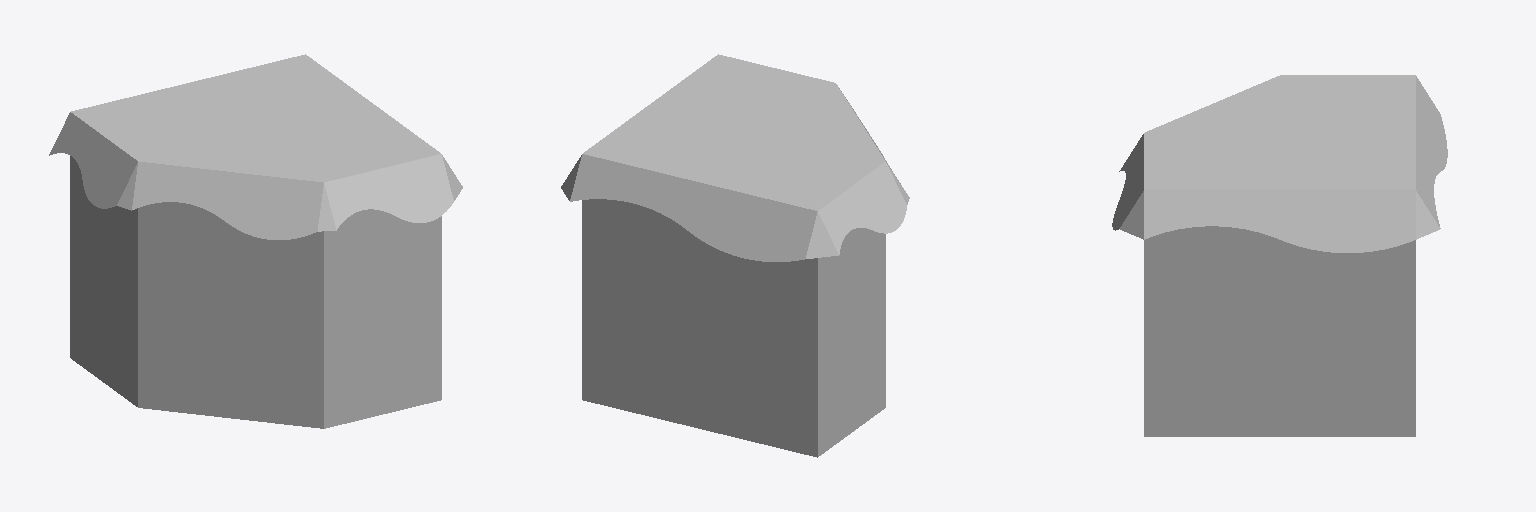
File: blockSnowCornerSmall.obj
3 views of the same model, side by side, from view 1: azimuth 30°, elevation 25°; view 2: azimuth 150°, elevation 25°; view 3: azimuth 270°, elevation 25° (orthographic).
Parts seen in each view (by area): view 1: blockSnowCornerSmall; view 2: blockSnowCornerSmall; view 3: blockSnowCornerSmall.
Part boxes in pixels (bbox=[...]): blockSnowCornerSmall: bbox=[49, 54, 462, 428]; blockSnowCornerSmall: bbox=[561, 54, 909, 457]; blockSnowCornerSmall: bbox=[1112, 75, 1447, 436].
Size of the model in its own units: 1.23 by 1 by 1.23.